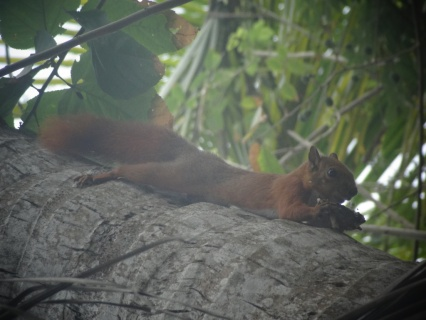Squirrel: (35, 108, 363, 220)
